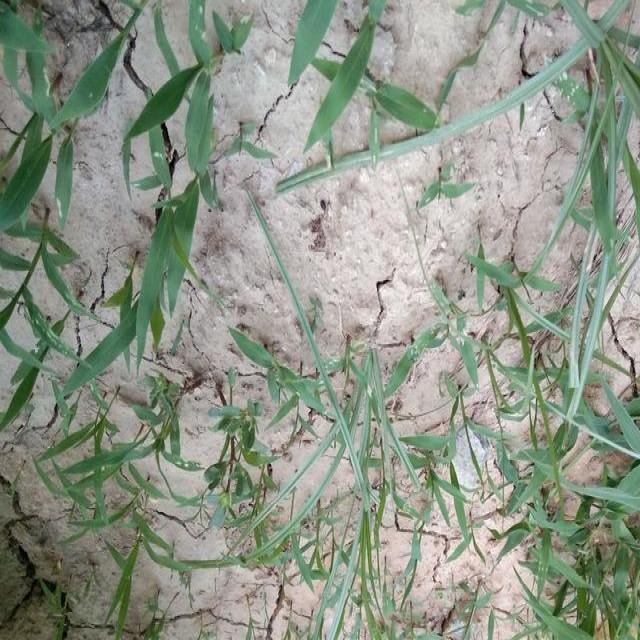weed: (246, 183, 474, 640), (19, 253, 214, 614), (297, 0, 640, 170), (510, 208, 640, 638), (137, 2, 230, 330), (0, 9, 115, 216)
